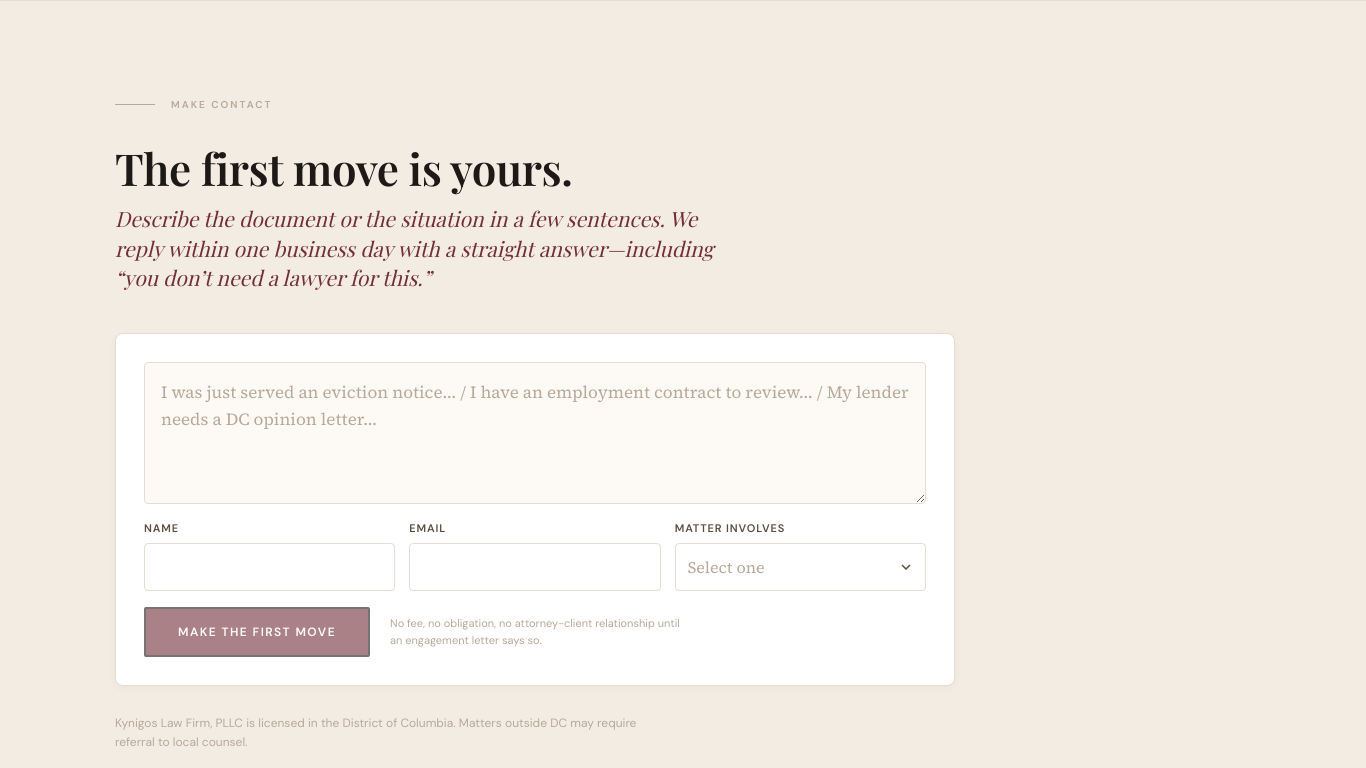
Test case: FirstMove › blocks submission and shows the referral note for non-DC matters
The width and height of the screenshot is (1366, 768).
Replace the text in the text box named "Describe your document or situation" with "I have an employment contract to review.": (535, 433) [144,362,926,504]
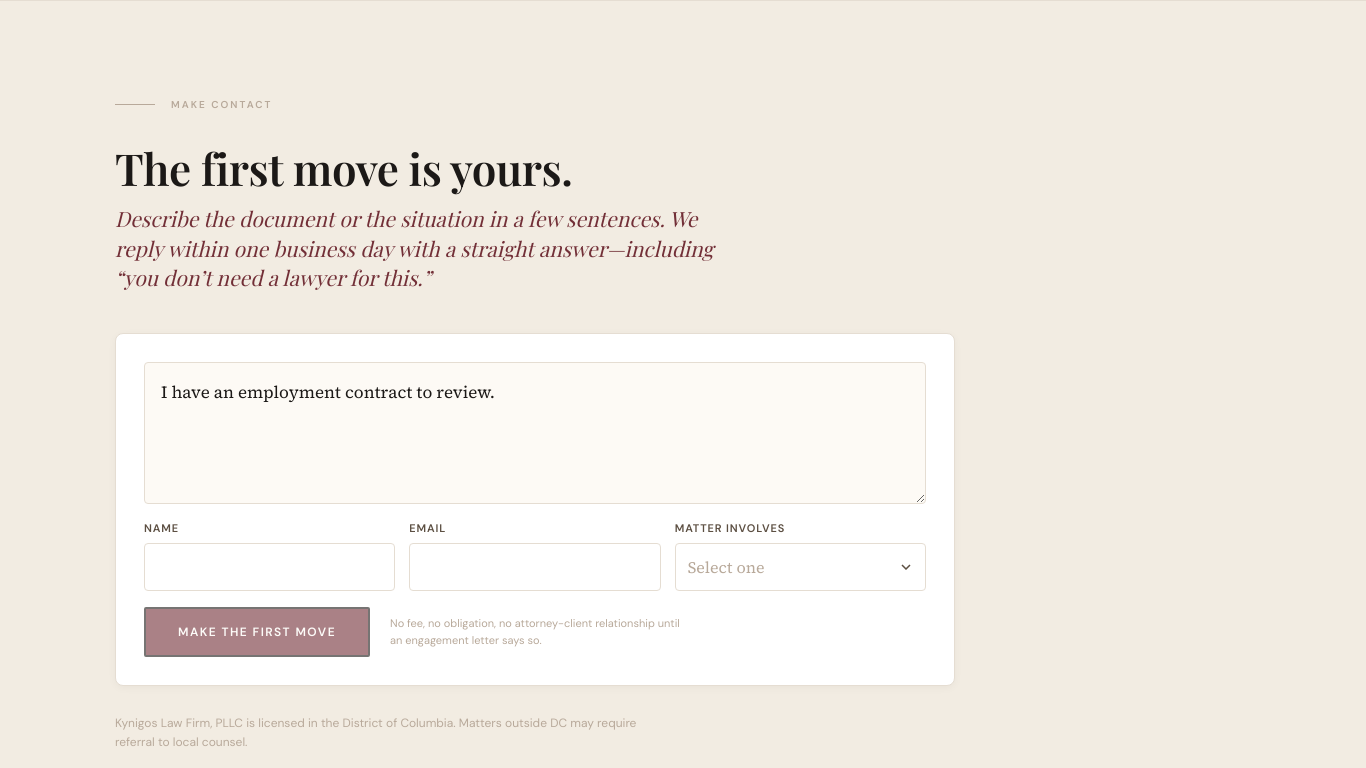
In the field labelled "Name": (270, 567) [144,543,395,591], type "Jordan Reyes"
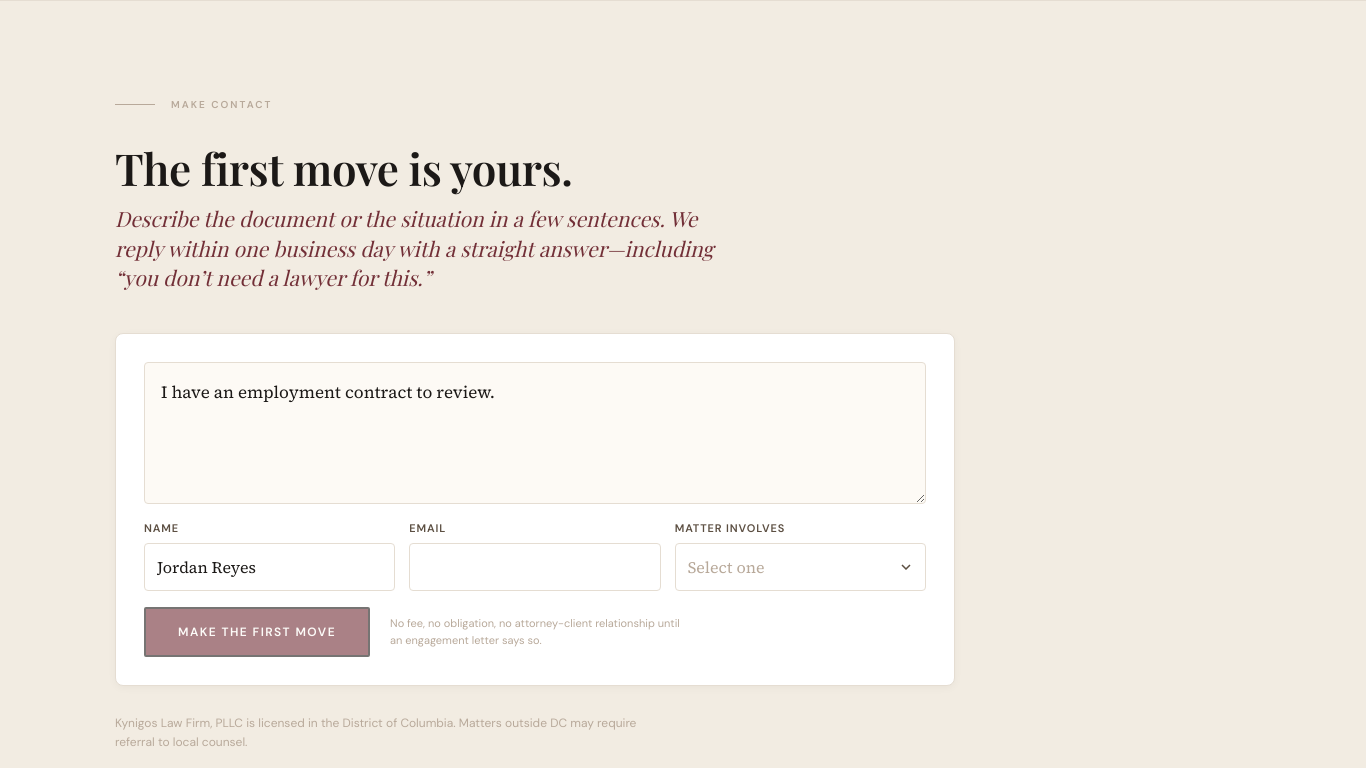
In the field labelled "Email": (535, 567) [409,543,661,591], type "jordan@example.com"
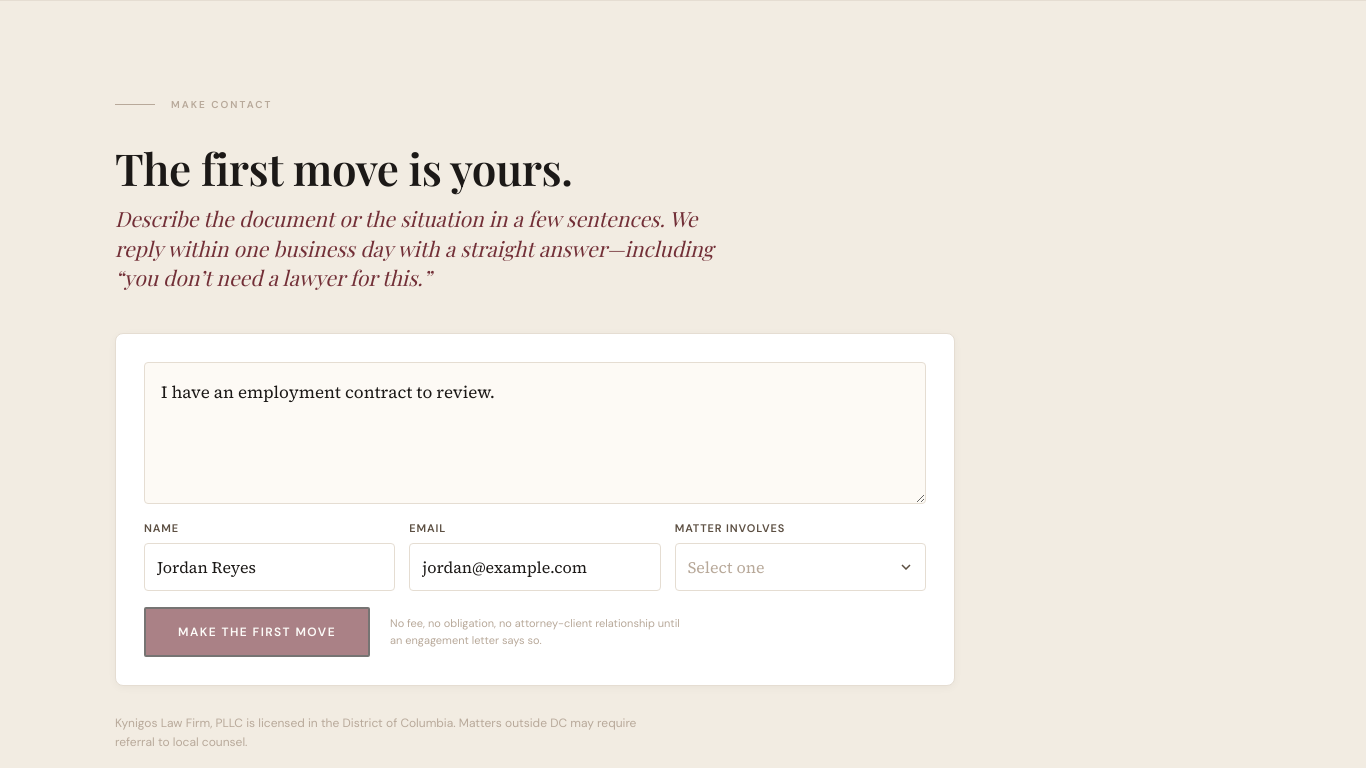
Select "Another jurisdiction" in the dropdown labelled "Matter involves": (800, 567) [675,543,926,591]
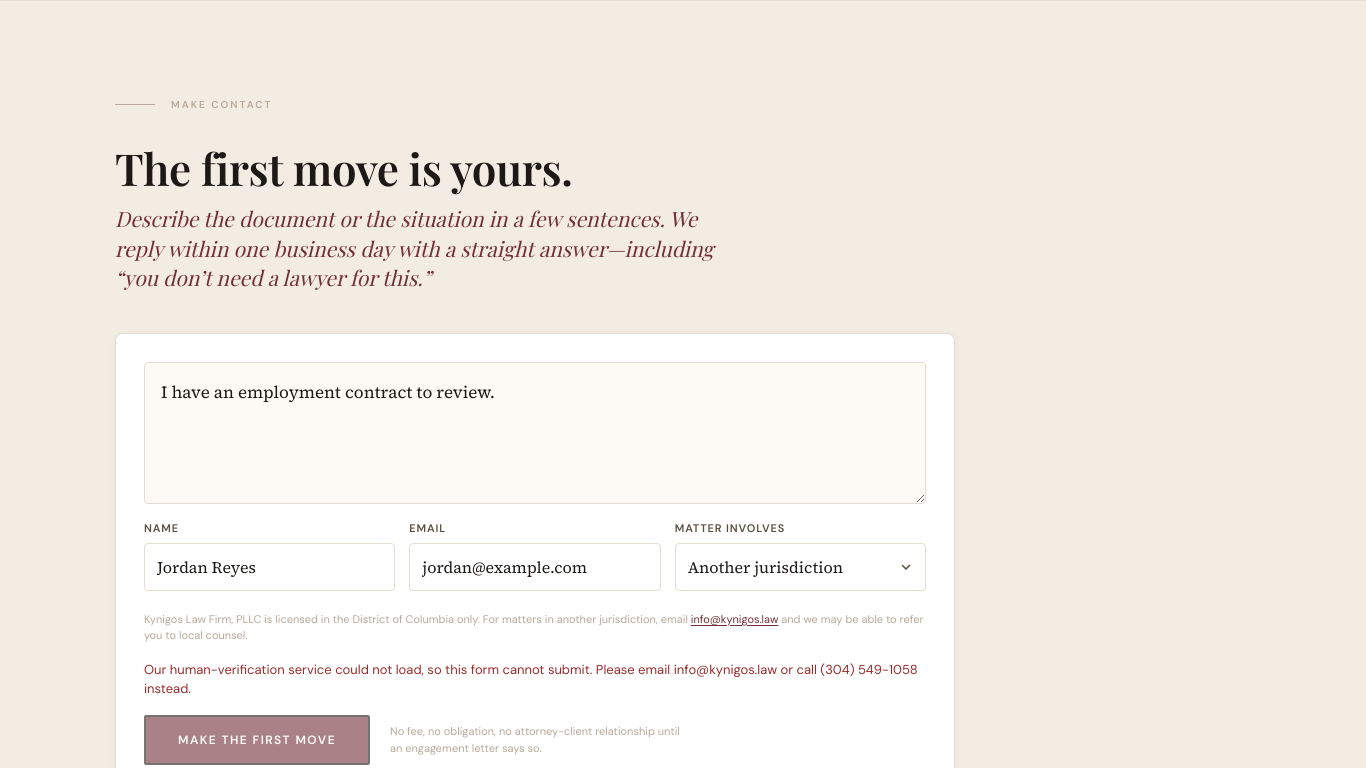
Expected: the button "Make The First Move" is disabled, [144,715,370,765]
Now the 1st message shows "licensed in the District of Columbia only", box [144,612,688,626]
